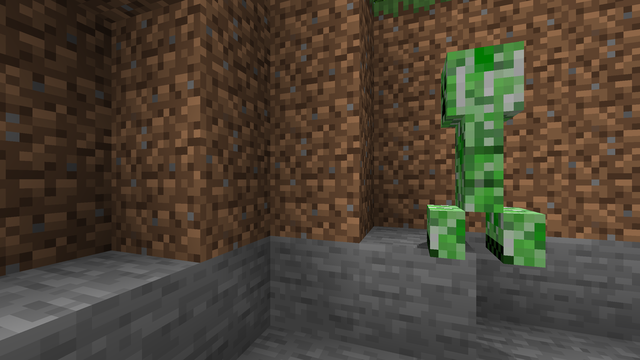creepers: (434, 25, 534, 268)
